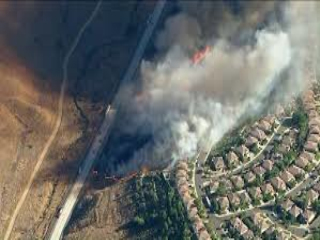smoke: (130, 15, 299, 173)
